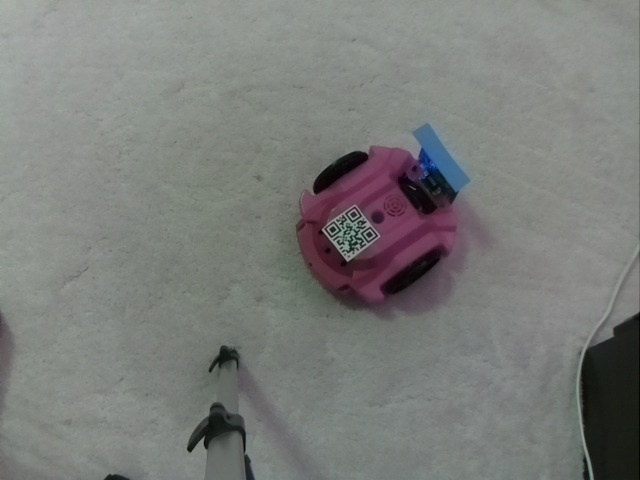chassis: (291, 125, 464, 307)
qr: (318, 205, 380, 262)
